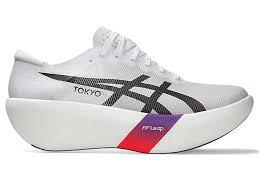asics logo: (37, 67, 213, 116)
